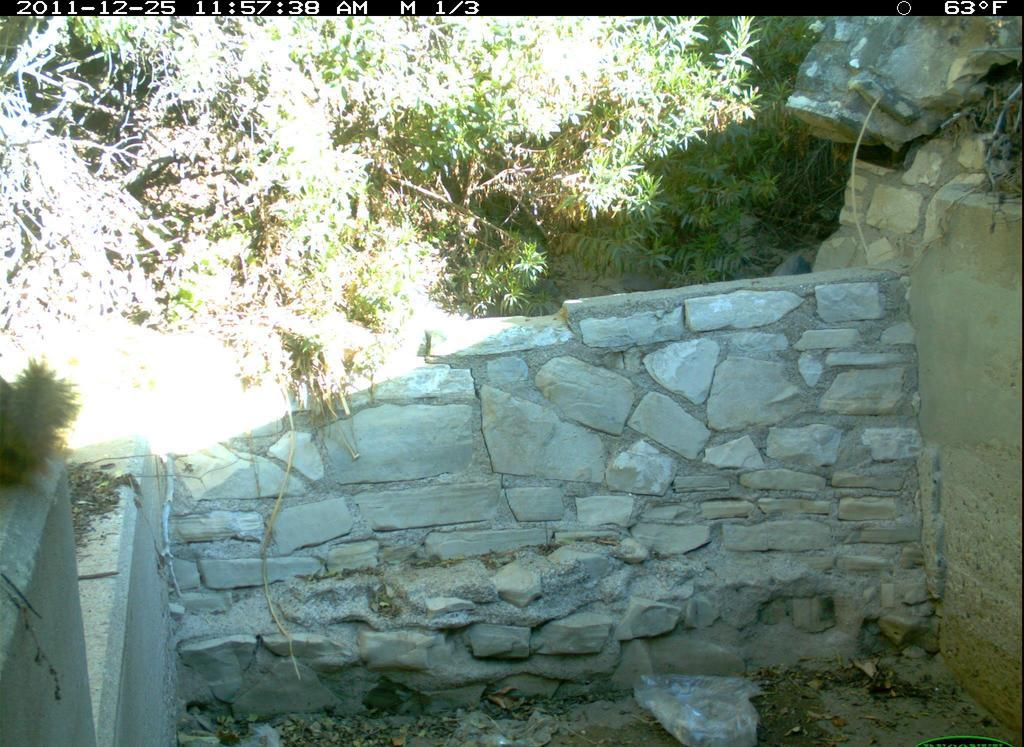squirrel: (3, 356, 90, 505)
